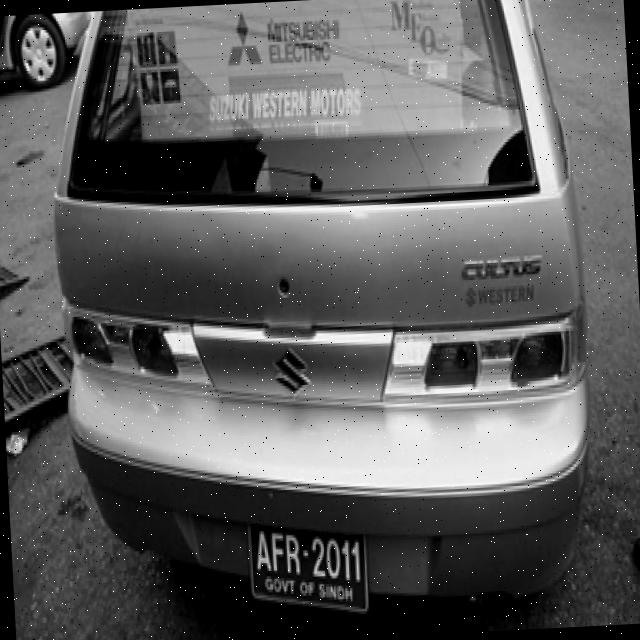Autre: (248, 501, 376, 626)
